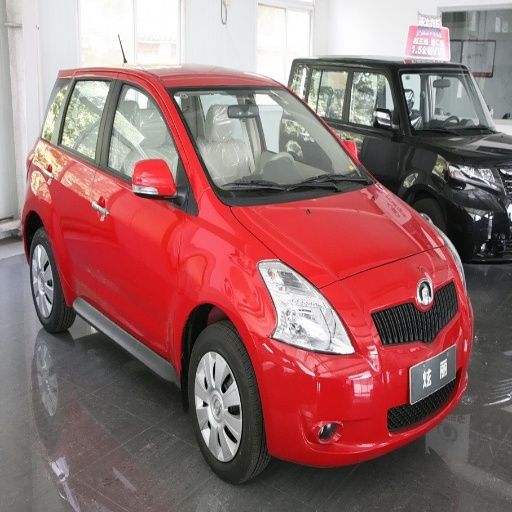front_bumper: (248, 251, 469, 462)
front_right_door: (96, 76, 188, 355)
front_right_light: (258, 259, 355, 353)
